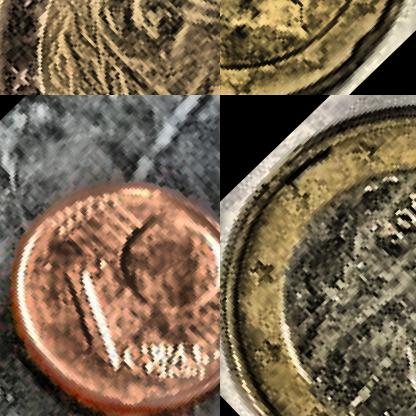coin: (0, 123, 219, 415), (220, 95, 415, 415), (0, 0, 219, 94), (220, 0, 415, 94)
